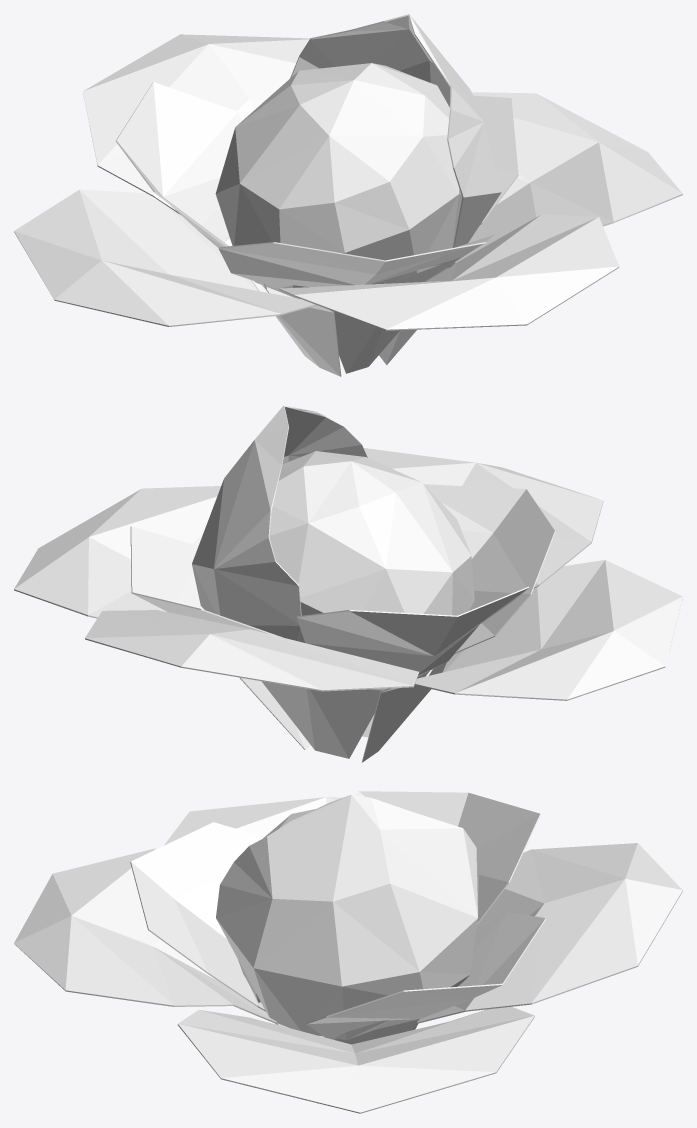
The model's file is Crop_Cabbage_STAGE_1_03.glb.
3 renders of one model, top to bottom at view 1: azimuth 30°, elevation 25°; view 2: azimuth 150°, elevation 25°; view 3: azimuth 270°, elevation 25°, orthographic.
Parts seen in each view (by area): view 1: Crop_Cabbage_STAGE_1_03; view 2: Crop_Cabbage_STAGE_1_03; view 3: Crop_Cabbage_STAGE_1_03.
Boxes of the visible parts, x1,y1,x2,y2 form: Crop_Cabbage_STAGE_1_03: [14, 14, 682, 376]; Crop_Cabbage_STAGE_1_03: [14, 405, 682, 762]; Crop_Cabbage_STAGE_1_03: [14, 791, 682, 1113].
Bounding box in the file's own units: 0.513 × 0.2629 × 0.4861.
Materials: 1 (1 with a texture image).
